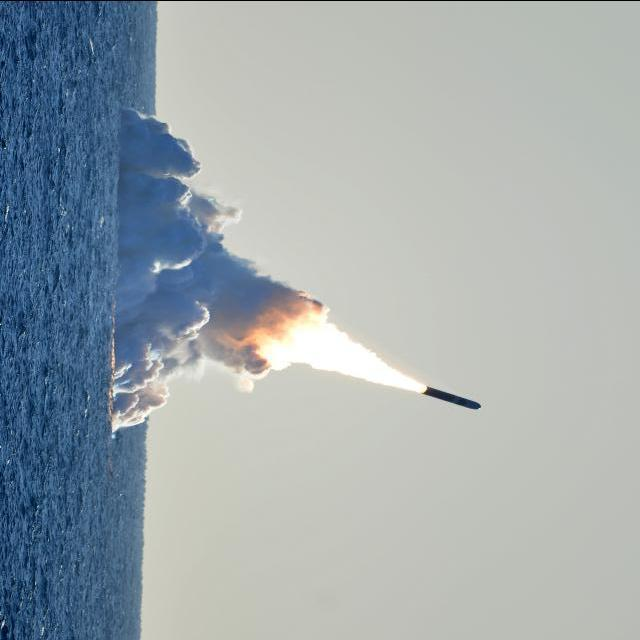missile: (423, 382, 484, 416)
